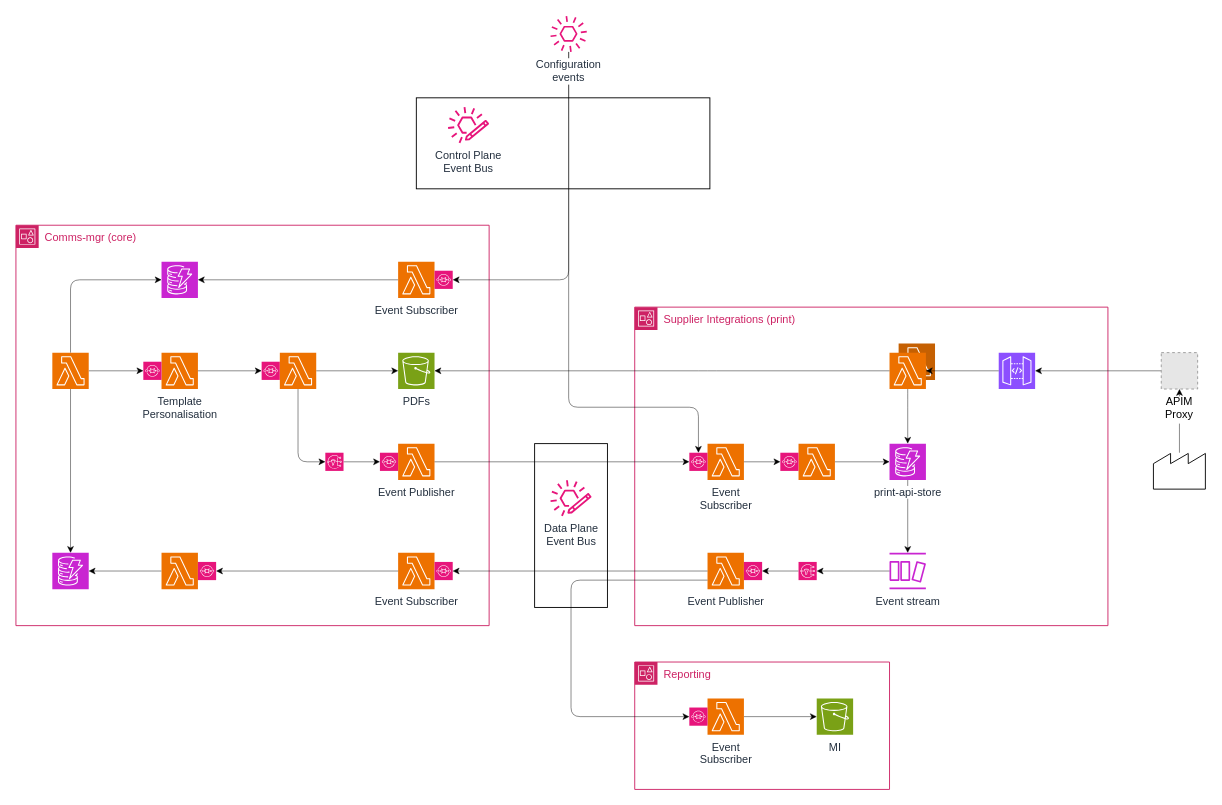
Some shapes in this 1222 by 805 pixel diagram are drawn without their labels. Grey dashed boxes stand in for pictures. Here are the shapes that lost their labels. From the top down, the centre of each, then its label:
the point at 179,279: quotas
the point at 70,370: Router
the point at 297,370: PDF Rendering
the point at 907,370: Print API Handlers
the point at 1016,370: API Gateway
the point at 816,461: Event Handler
the point at 1179,470: Supplier
the point at 70,570: comms-mgr
the point at 179,570: Message status update
